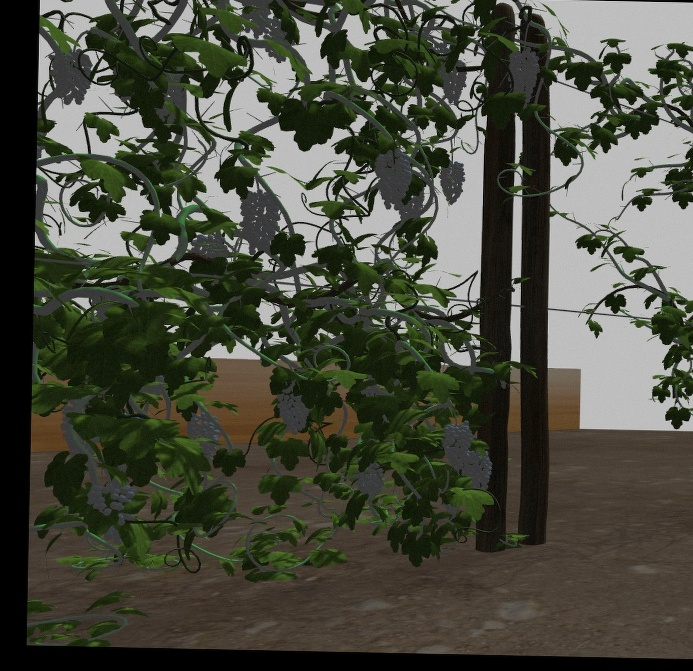grape: (237, 189, 280, 257), (48, 48, 93, 107), (373, 149, 412, 211), (86, 480, 134, 519), (275, 385, 310, 437), (507, 49, 540, 103), (184, 410, 219, 459), (439, 421, 472, 471), (436, 58, 467, 106), (437, 159, 466, 206), (353, 460, 386, 499), (466, 448, 492, 492)
